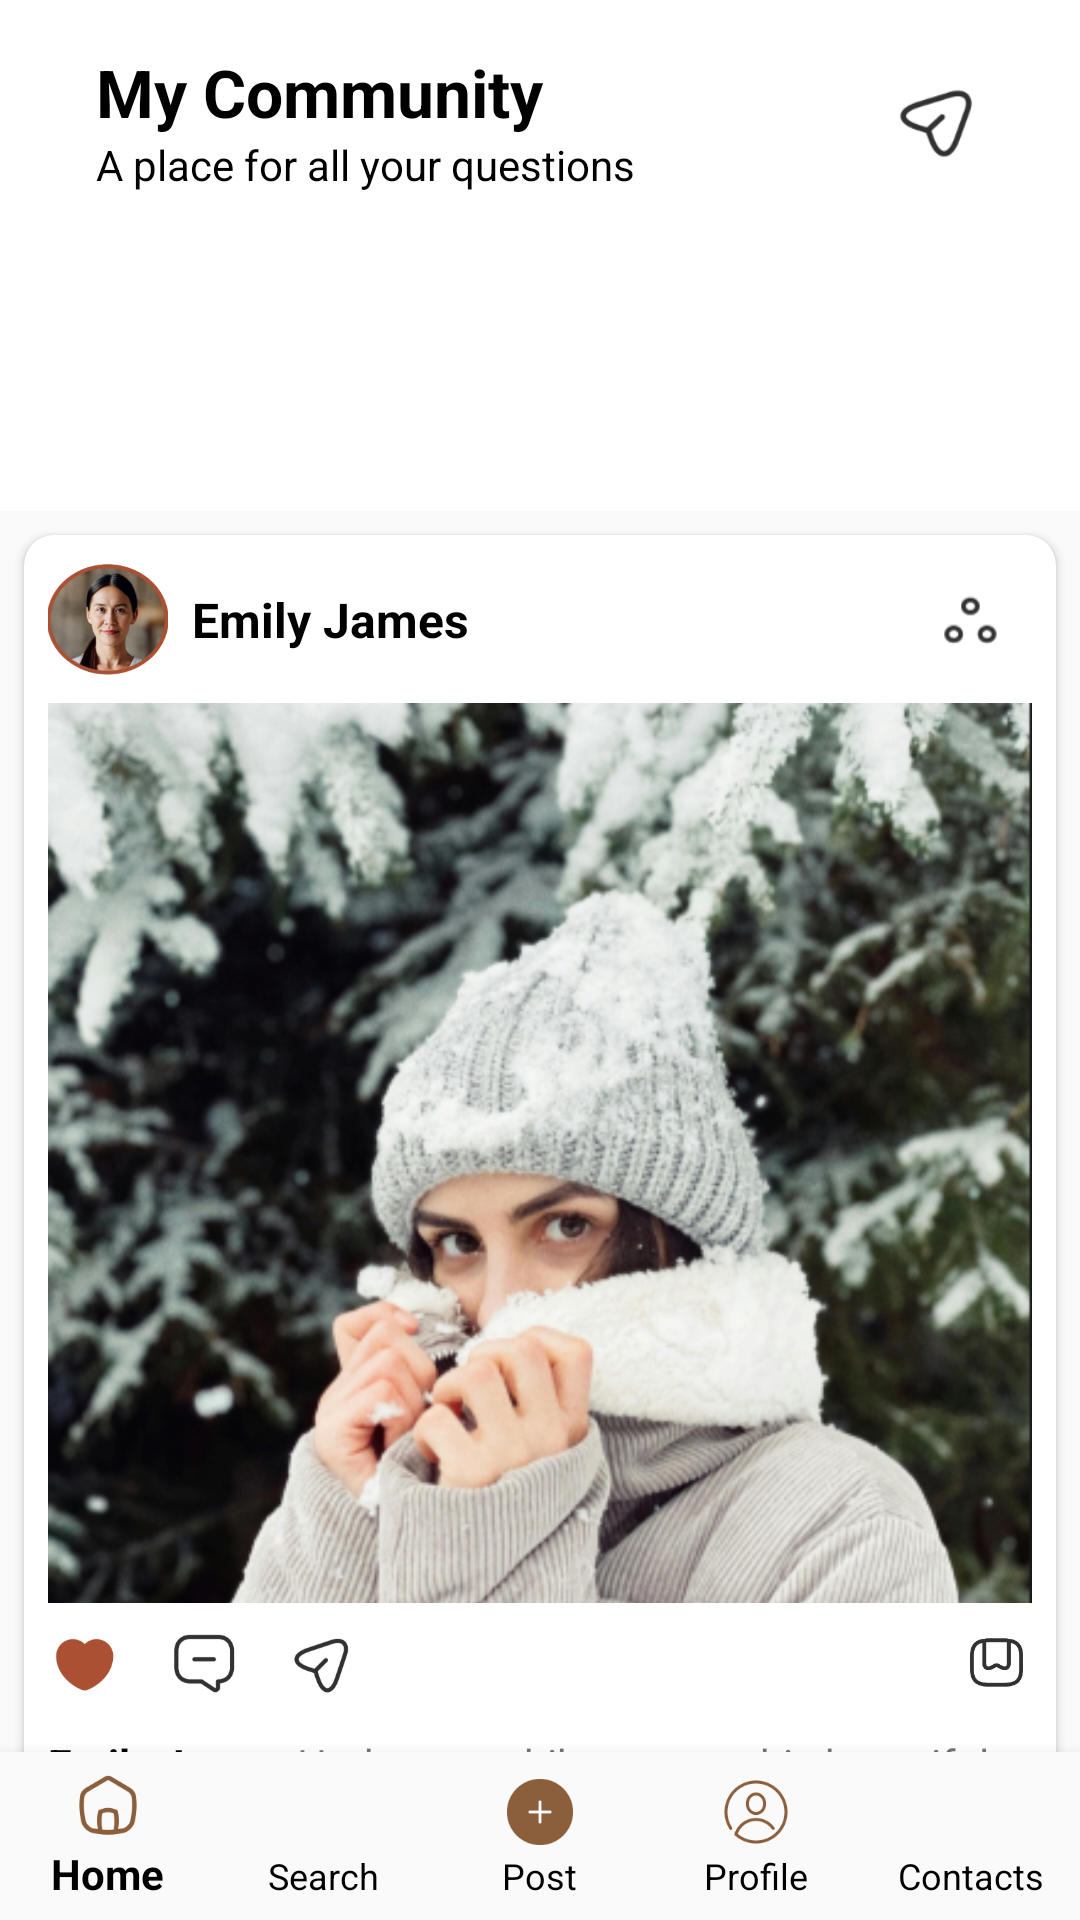

Named icons in this screenshot (1080px×1920px) and their centers, (x=x, y=y):
comment: (x=204, y=1663)
heart: (x=85, y=1665)
send: (x=321, y=1665)
